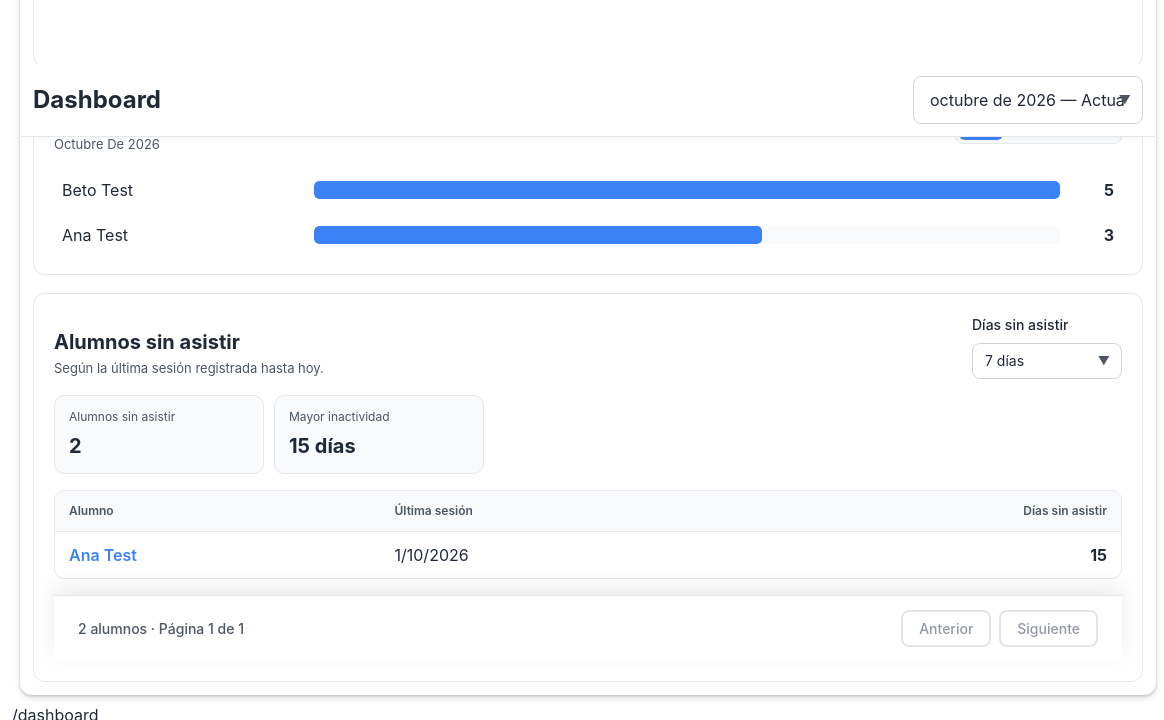
it: cambia el umbral sin depender del período y abre la ficha del alumno
(page scrolled)
Select "14 días" in the dropdown labelled "Días sin asistir" at (1047, 361), box [972, 343, 1122, 379]
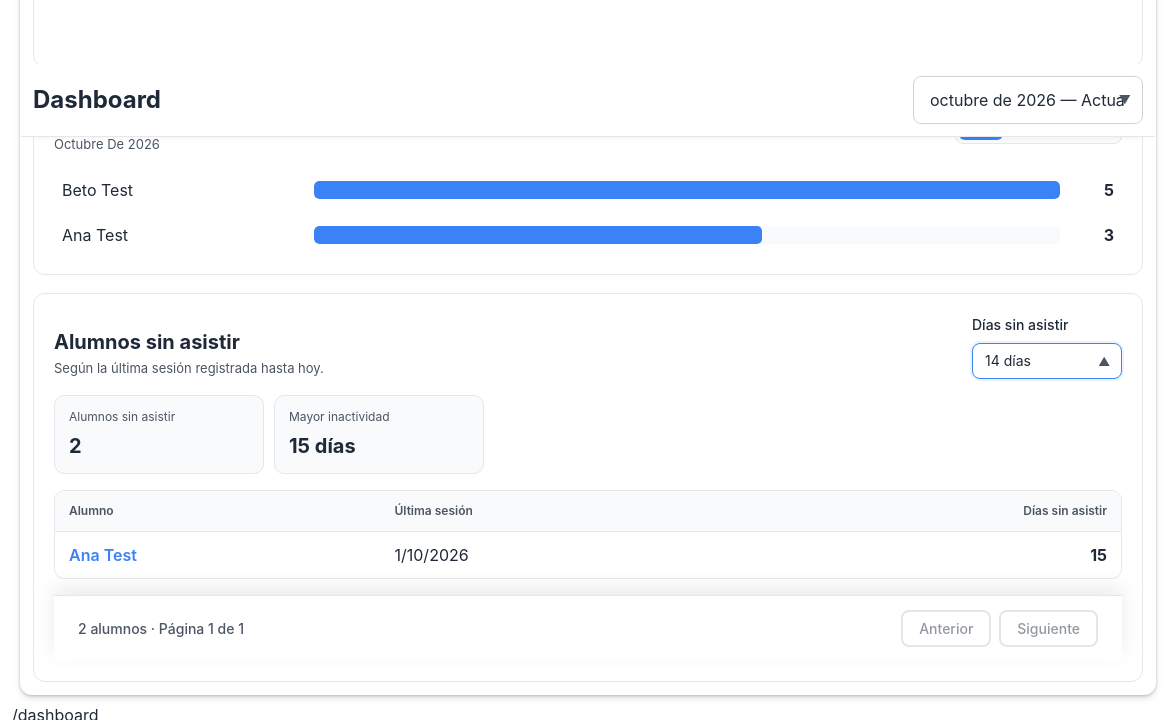
Click the button "Ana Test".
click(103, 555)  # box [69, 543, 137, 567]
(page scrolled)
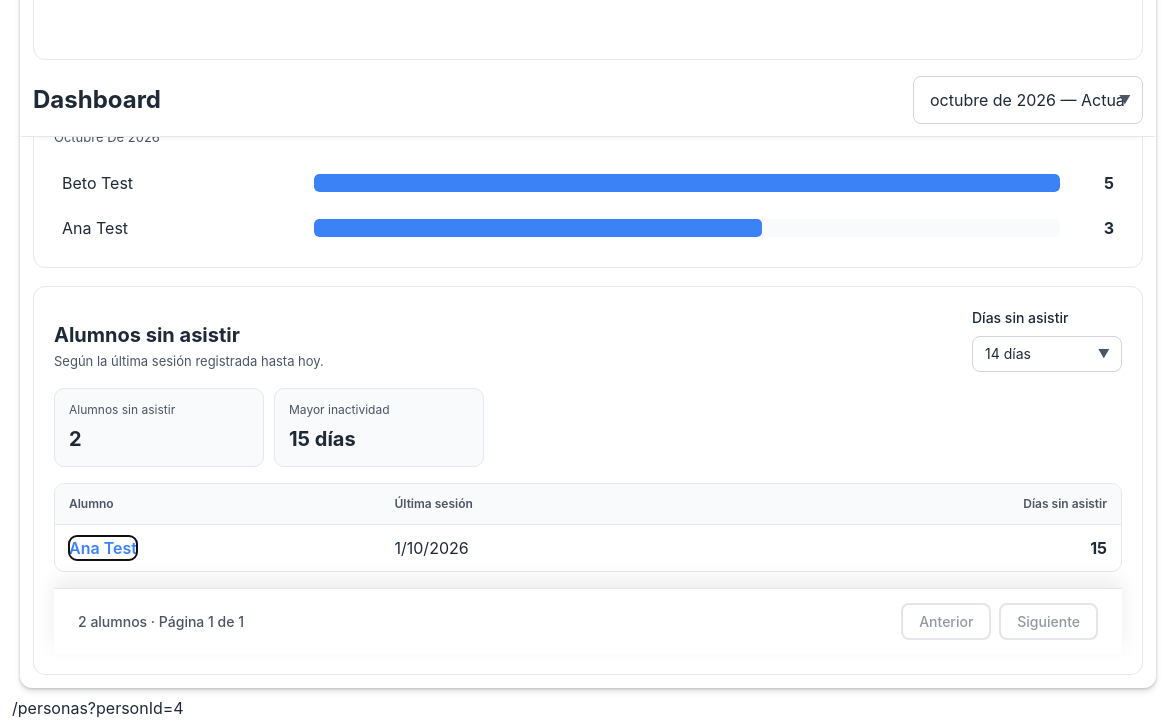
Now the text with test id "location" reads "/personas?personId=4", box [12, 698, 184, 718]
